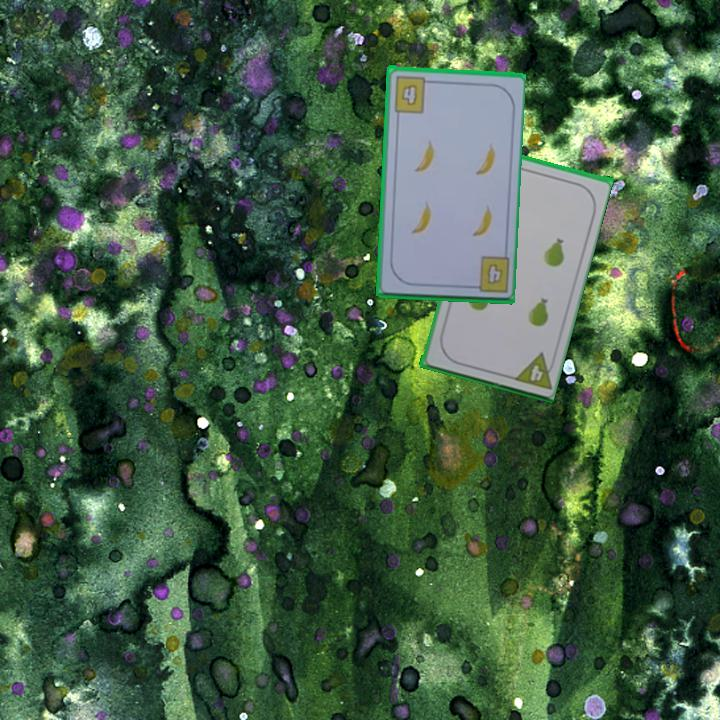4b: (391, 72, 434, 115), (483, 259, 505, 287)
4p: (508, 348, 559, 392)
